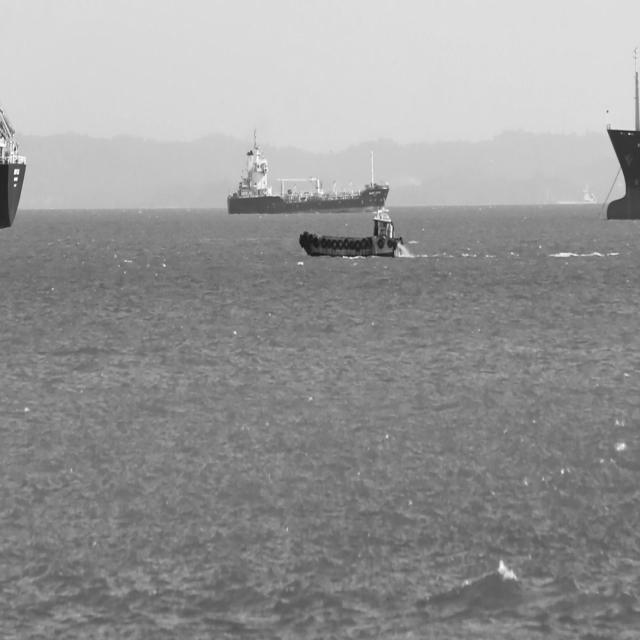ship: (226, 126, 389, 216), (606, 44, 639, 219), (299, 209, 406, 262), (0, 103, 25, 227)
